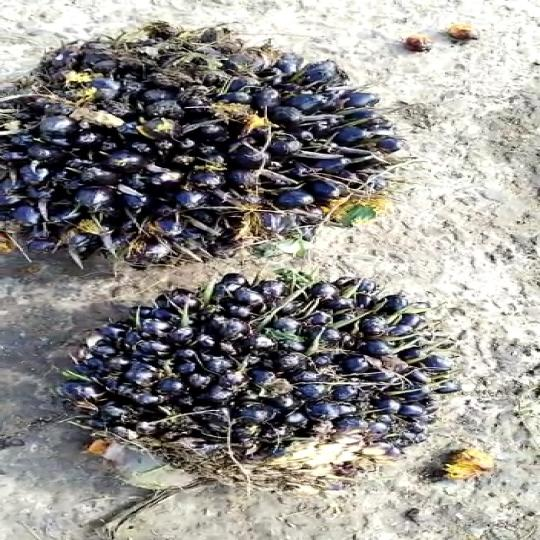mentah: (0, 14, 412, 273), (56, 267, 443, 497)
